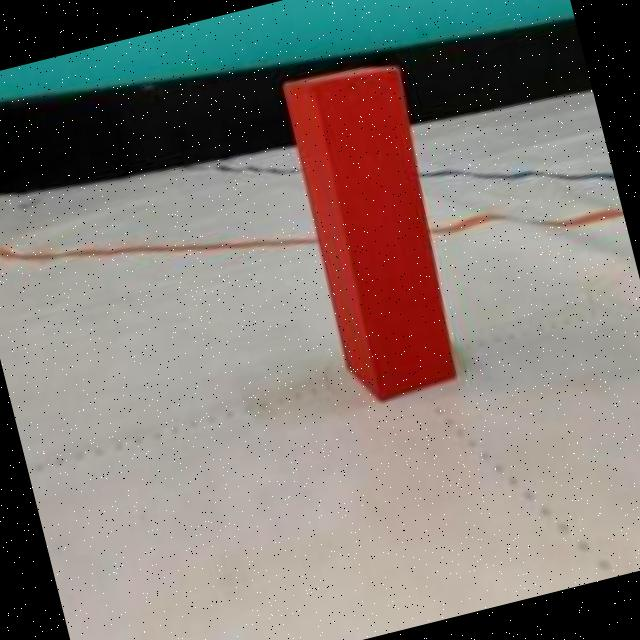redbox: (275, 56, 480, 410)
